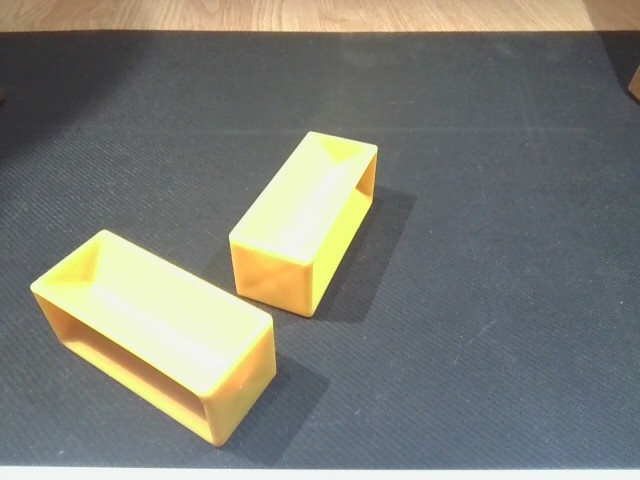YellowSample: (21, 226, 286, 451), (228, 128, 384, 323)
